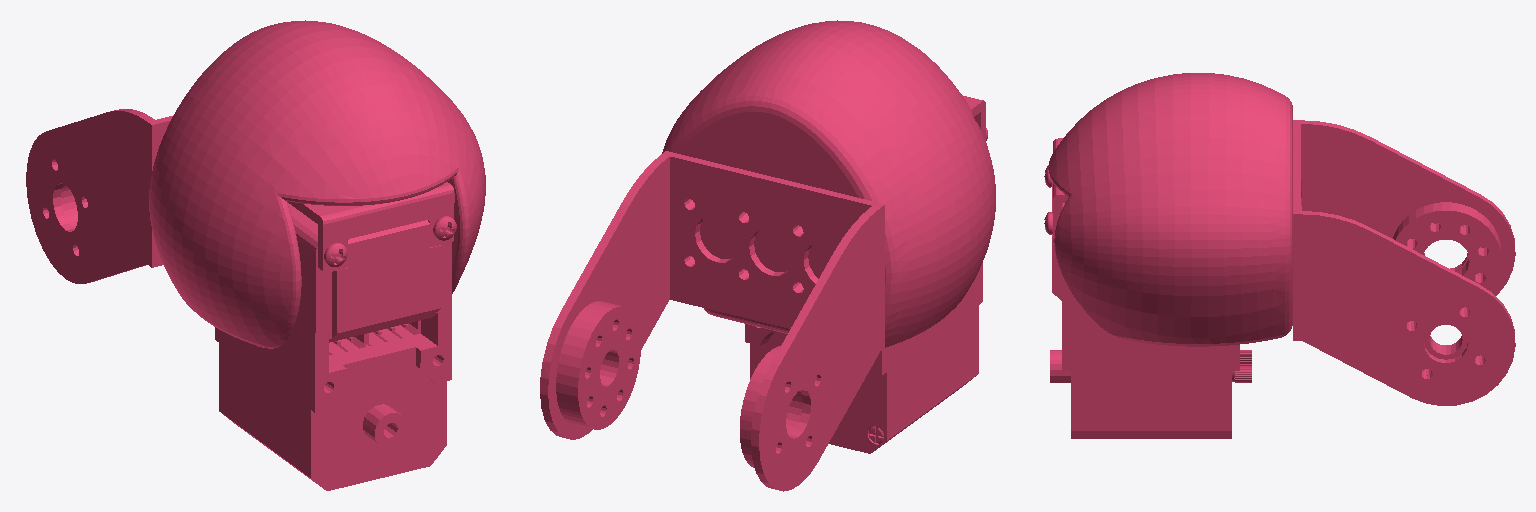
URDF robot description (PinkPanther_CML):
<?xml version="1.0" encoding="utf-8"?>
<!-- This URDF was automatically created by SolidWorks to URDF Exporter! Originally created by [author] ([email redacted]) 
     Commit Version: 1.5.1-0-g916b5db  Build Version: 1.5.7152.31018
     For more information, please see http://wiki.ros.org/sw_urdf_exporter -->
<robot
  name="PinkPanther_CML">
  <material name="light_pink">
    <color rgba="0.906 0.329 0.502 1"/>
  </material>
  <link
    name="base_link">
    <inertial>
      <origin
        xyz="0.00330331665446667 0.0134210233318688 0.000330796304878542"
        rpy="0 0 0" />
      <mass
        value="0.943175379685331" />
      <inertia
        ixx="0.000843754097456323"
        ixy="-9.02236540608445E-05"
        ixz="-1.97983849821466E-07"
        iyy="0.00333595130361869"
        iyz="-6.67405147906829E-08"
        izz="0.00280083806021279" />
    </inertial>
    <visual>
      <origin
        xyz="0 0 0"
        rpy="0 0 0" />
      <geometry>
        <mesh
          filename="package://PinkPanther_CML/meshes/base_link.STL" />
      </geometry>
      <material
        name="light_pink">
      </material>
    </visual>
    <collision>
      <origin
        xyz="0 0 0"
        rpy="0 0 0" />
      <geometry>
        <mesh
          filename="package://PinkPanther_CML/meshes/base_link.STL" />
      </geometry>
    </collision>
  </link>
  <link
    name="lf_scapula_link">
    <inertial>
      <origin
        xyz="-0.03075 0.010763 0.045764"
        rpy="0 0 0" />
      <mass
        value="0.0824" />
      <inertia
        ixx="1.9553E-05"
        ixy="2.0818E-07"
        ixz="3.2177E-07"
        iyy="1.9067E-05"
        iyz="-9.6011E-07"
        izz="2.1806E-05" />
    </inertial>
    <visual>
      <origin
        xyz="0 0 0"
        rpy="0 0 0" />
      <geometry>
        <mesh
          filename="package://PinkPanther_CML/meshes/lf_shoulder_link.STL" />
      </geometry>
      <material
        name="light_pink">
      </material>
    </visual>
    <collision>
      <origin
        xyz="0 0 0"
        rpy="0 0 0" />
      <geometry>
        <mesh
          filename="package://PinkPanther_CML/meshes/lf_shoulder_link.STL" />
      </geometry>
    </collision>
  </link>
  <joint
    name="lf_armpit_joint"
    type="revolute">
    <origin
      xyz="0.086416 0.04808 0.020486"
      rpy="1.5666 -5.102E-05 3.1416" />
    <parent
      link="base_link" />
    <child
      link="lf_scapula_link" />
    <axis
      xyz="1 -5.102E-05 0" />
    <limit
      lower="-0.3"
      upper="0.3"
      effort="1.667"
      velocity="6.545" />
  </joint>
  <link
    name="lf_humerus_link">
    <inertial>
      <origin
        xyz="0.059996 -0.034184 0.032377"
        rpy="0 0 0" />
      <mass
        value="0.20467" />
      <inertia
        ixx="5.2641E-05"
        ixy="-6.8704E-06"
        ixz="-9.1195E-09"
        iyy="0.0002077"
        iyz="4.2931E-10"
        izz="0.00019669" />
    </inertial>
    <visual>
      <origin
        xyz="0 0 0"
        rpy="0 0 0" />
      <geometry>
        <mesh
          filename="package://PinkPanther_CML/meshes/lf_thigh_link.STL" />
      </geometry>
      <material
        name="light_pink">
      </material>
    </visual>
    <collision>
      <origin
        xyz="0 0 0"
        rpy="0 0 0" />
      <geometry>
        <mesh
          filename="package://PinkPanther_CML/meshes/lf_thigh_link.STL" />
      </geometry>
    </collision>
  </link>
  <joint
    name="lf_shoulder_joint"
    type="revolute">
    <origin
      xyz="-0.029275 -0.014657 0.021201"
      rpy="0 0 -0.43549" />
    <parent
      link="lf_scapula_link" />
    <child
      link="lf_humerus_link" />
    <axis
      xyz="0 0 1" />
    <limit
      lower="-0.3"
      upper="1.2"
      effort="1.667"
      velocity="6.545" />
  </joint>
  <link
    name="lf_ulna_link">
    <inertial>
      <origin
        xyz="-0.0562746607594241 -0.0312019222312566 0.0300902624876031"
        rpy="0 0 0" />
      <mass
        value="0.129518977611389" />
      <inertia
        ixx="2.77037088503312E-05"
        ixy="6.55368550236014E-06"
        ixz="1.06768612045409E-09"
        iyy="0.000261061310693975"
        iyz="2.95073964447291E-09"
        izz="0.000250498590500445" />
    </inertial>
    <visual>
      <origin
        xyz="0 0 0"
        rpy="0 0 0" />
      <geometry>
        <mesh
          filename="package://PinkPanther_CML/meshes/left_ulna_link.STL" />
      </geometry>
      <material
        name="light_pink">
      </material>
    </visual>
    <collision>
      <origin
        xyz="0 0 0"
        rpy="0 0 0" />
      <geometry>
        <mesh
          filename="package://PinkPanther_CML/meshes/left_ulna_link.STL" />
      </geometry>
    </collision>
  </link>
  <joint
    name="lf_elbow_joint"
    type="revolute">
    <origin
      xyz="0.14707 -0.034829 0.0022602"
      rpy="0 0 0.93771" />
    <parent
      link="lf_humerus_link" />
    <child
      link="lf_ulna_link" />
    <axis
      xyz="0 0 1" />
    <limit
      lower="-0.9"
      upper="1.2"
      effort="1.667"
      velocity="6.545" />
  </joint>
  <link
    name="rf_scapula_link">
    <inertial>
      <origin
        xyz="-0.030838 0.010759 -0.045563"
        rpy="0 0 0" />
      <mass
        value="0.082397" />
      <inertia
        ixx="1.9553E-05"
        ixy="2.0806E-07"
        ixz="-3.2173E-07"
        iyy="1.9066E-05"
        iyz="9.7295E-07"
        izz="2.1806E-05" />
    </inertial>
    <visual>
      <origin
        xyz="0 0 0"
        rpy="0 0 0" />
      <geometry>
        <mesh
          filename="package://PinkPanther_CML/meshes/rf_shoulder_link.STL" />
      </geometry>
      <material
        name="light_pink">
      </material>
    </visual>
    <collision>
      <origin
        xyz="0 0 0"
        rpy="0 0 0" />
      <geometry>
        <mesh
          filename="package://PinkPanther_CML/meshes/rf_shoulder_link.STL" />
      </geometry>
    </collision>
  </link>
  <joint
    name="rf_armpit_joint"
    type="revolute">
    <origin
      xyz="0.086926 -0.04808 0.020486"
      rpy="1.5736 5.102E-05 3.1416" />
    <parent
      link="base_link" />
    <child
      link="rf_scapula_link" />
    <axis
      xyz="1 5.102E-05 0" />
    <limit
      lower="-0.3"
      upper="0.3"
      effort="1.667"
      velocity="6.545" />
  </joint>
  <link
    name="rf_humerus_link">
    <inertial>
      <origin
        xyz="0.059996319544716 -0.0341838862880749 -0.0326354177099718"
        rpy="0 0 0" />
      <mass
        value="0.204666659119259" />
      <inertia
        ixx="5.26405020771446E-05"
        ixy="-6.87045925823286E-06"
        ixz="-9.16134381790139E-09"
        iyy="0.000207700318237006"
        iyz="4.24645067196885E-10"
        izz="0.000196694737864689" />
    </inertial>
    <visual>
      <origin
        xyz="0 0 0.0055"
        rpy="0 0 0" />
      <geometry>
        <mesh
          filename="package://PinkPanther_CML/meshes/rf_thigh_link.STL" />
      </geometry>
      <material
        name="light_pink">
      </material>
    </visual>
    <collision>
      <origin
        xyz="0 0 0.0055"
        rpy="0 0 0" />
      <geometry>
        <mesh
          filename="package://PinkPanther_CML/meshes/rf_thigh_link.STL" />
      </geometry>
    </collision>
  </link>
  <joint
    name="rf_shoulder_joint"
    type="revolute">
    <origin
      xyz="-0.029276 -0.01466 -0.020328"
      rpy="0 0 -0.42784" />
    <parent
      link="rf_scapula_link" />
    <child
      link="rf_humerus_link" />
    <axis
      xyz="0 0 1" />
    <limit
      lower="-0.3"
      upper="1.2"
      effort="1.667"
      velocity="6.545" />
  </joint>
  <link
    name="rf_ulna_link">
    <inertial>
      <origin
        xyz="-0.0562746594086836 -0.031201912312426 -0.0304061026125255"
        rpy="0 0 0" />
      <mass
        value="0.129518977475394" />
      <inertia
        ixx="2.77037089316128E-05"
        ixy="6.55368523649855E-06"
        ixz="1.06766509147501E-09"
        iyy="0.000261061310715708"
        iyz="2.95075193535627E-09"
        izz="0.000250498590422263" />
    </inertial>
    <visual>
      <origin
        xyz="0 0 -0.0005"
        rpy="0 0 0" />
      <geometry>
        <mesh
          filename="package://PinkPanther_CML/meshes/right_ulna_link.STL" />
      </geometry>
      <material
        name="light_pink">
      </material>
    </visual>
    <collision>
      <origin
        xyz="0 0 -0.0005"
        rpy="0 0 0" />
      <geometry>
        <mesh
          filename="package://PinkPanther_CML/meshes/right_ulna_link.STL" />
      </geometry>
    </collision>
  </link>
  <joint
    name="rf_elbow_joint"
    type="revolute">
    <origin
      xyz="0.14707 -0.034829 -0.0017563"
      rpy="0 0 0.93378" />
    <parent
      link="rf_humerus_link" />
    <child
      link="rf_ulna_link" />
    <axis
      xyz="0 0 1" />
    <limit
      lower="-0.9"
      upper="1.2"
      effort="1.667"
      velocity="6.545" />
  </joint>
  <link
    name="lb_scapula_link">
    <inertial>
      <origin
        xyz="0.0268112424173798 0.0107596960598041 0.0457636308417059"
        rpy="0 0 0" />
      <mass
        value="0.0823995961404887" />
      <inertia
        ixx="1.95534937544982E-05"
        ixy="2.08177132098421E-07"
        ixz="3.21769091341535E-07"
        iyy="1.90668948433689E-05"
        iyz="-9.60105437391446E-07"
        izz="2.1805721300216E-05" />
    </inertial>
    <visual>
      <origin
        xyz="0.0057 0 0"
        rpy="0 0 0" />
      <geometry>
        <mesh
          filename="package://PinkPanther_CML/meshes/lb_shoulder_link.STL" />
      </geometry>
      <material
        name="light_pink">
      </material>
    </visual>
    <collision>
      <origin
        xyz="0.0057 0 0"
        rpy="0 0 0" />
      <geometry>
        <mesh
          filename="package://PinkPanther_CML/meshes/lb_shoulder_link.STL" />
      </geometry>
    </collision>
  </link>
  <joint
    name="lb_armpit_joint"
    type="revolute">
    <origin
      xyz="-0.090843 0.04808 0.020486"
      rpy="1.5668 -5.102E-05 -3.1416" />
    <parent
      link="base_link" />
    <child
      link="lb_scapula_link" />
    <axis
      xyz="1 -5.102E-05 0" />
    <limit
      lower="-0.3"
      upper="0.3"
      effort="1.667"
      velocity="6.545" />
  </joint>
  <link
    name="lb_humerus_link">
    <inertial>
      <origin
        xyz="0.0599962531882521 -0.0341838743931865 0.0323774662751334"
        rpy="0 0 0" />
      <mass
        value="0.204667094970786" />
      <inertia
        ixx="5.26405893727808E-05"
        ixy="-6.87037873543066E-06"
        ixz="-9.16501184768225E-09"
        iyy="0.000207700430481537"
        iyz="4.05445574988764E-10"
        izz="0.00019669493307742" />
    </inertial>
    <visual>
      <origin
        xyz="0 0 0"
        rpy="0 0 0" />
      <geometry>
        <mesh
          filename="package://PinkPanther_CML/meshes/lb_thigh_link.STL" />
      </geometry>
      <material
        name="light_pink">
      </material>
    </visual>
    <collision>
      <origin
        xyz="0 0 0"
        rpy="0 0 0" />
      <geometry>
        <mesh
          filename="package://PinkPanther_CML/meshes/lb_thigh_link.STL" />
      </geometry>
    </collision>
  </link>
  <joint
    name="lb_shoulder_joint"
    type="revolute">
    <origin
      xyz="0.028287 -0.014659 0.021201"
      rpy="0 0 -0.46494" />
    <parent
      link="lb_scapula_link" />
    <child
      link="lb_humerus_link" />
    <axis
      xyz="0 0 1" />
    <limit
      lower="-0.3"
      upper="1.2"
      effort="1.667"
      velocity="6.545" />
  </joint>
  <link
    name="lb_ulna_link">
    <inertial>
      <origin
        xyz="-0.0562746283337433 -0.0312019131985415 0.0300903536116095"
        rpy="0 0 0" />
      <mass
        value="0.129518977611384" />
      <inertia
        ixx="2.77037088503135E-05"
        ixy="6.5536855023707E-06"
        ixz="1.067686122188E-09"
        iyy="0.00026106131069397"
        iyz="2.95073964434943E-09"
        izz="0.000250498590500422" />
    </inertial>
    <visual>
      <origin
        xyz="0 0 0"
        rpy="0 0 0" />
      <geometry>
        <mesh
          filename="package://PinkPanther_CML/meshes/left_ulna_link.STL" />
      </geometry>
      <material
        name="light_pink">
      </material>
    </visual>
    <collision>
      <origin
        xyz="0 0 0"
        rpy="0 0 0" />
      <geometry>
        <mesh
          filename="package://PinkPanther_CML/meshes/left_ulna_link.STL" />
      </geometry>
    </collision>
  </link>
  <joint
    name="lb_elbow_joint"
    type="revolute">
    <origin
      xyz="0.14707 -0.034829 0.0022602"
      rpy="0 0 0.97678" />
    <parent
      link="lb_humerus_link" />
    <child
      link="lb_ulna_link" />
    <axis
      xyz="0 0 1" />
    <limit
      lower="-0.6"
      upper="1.2"
      effort="1.667"
      velocity="6.545" />
  </joint>
  <link
    name="rb_scapula_link">
    <inertial>
      <origin
        xyz="0.0267231655282443 0.010762075261042 -0.0455633379422674"
        rpy="0 0 0" />
      <mass
        value="0.0823973934424499" />
      <inertia
        ixx="1.95529733228597E-05"
        ixy="2.08060157237391E-07"
        ixz="-3.21734054822669E-07"
        iyy="1.90663267893417E-05"
        iyz="9.7294659149752E-07"
        izz="2.18055626025946E-05" />
    </inertial>
    <visual>
      <origin
        xyz="0.0069 0 0"
        rpy="0 0 0" />
      <geometry>
        <mesh
          filename="package://PinkPanther_CML/meshes/rb_shoulder_link.STL" />
      </geometry>
      <material
        name="light_pink">
      </material>
    </visual>
    <collision>
      <origin
        xyz="0.0069 0 0"
        rpy="0 0 0" />
      <geometry>
        <mesh
          filename="package://PinkPanther_CML/meshes/rb_shoulder_link.STL" />
      </geometry>
    </collision>
  </link>
  <joint
    name="rb_armpit_joint"
    type="revolute">
    <origin
      xyz="-0.090333 -0.04808 0.020486"
      rpy="1.5701 5.102E-05 -3.1416" />
    <parent
      link="base_link" />
    <child
      link="rb_scapula_link" />
    <axis
      xyz="1 5.102E-05 0" />
    <limit
      lower="-0.3"
      upper="0.3"
      effort="1.667"
      velocity="6.545" />
  </joint>
  <link
    name="rb_humerus_link">
    <inertial>
      <origin
        xyz="0.0599962641867017 -0.0341838839492449 -0.0322633194933277"
        rpy="0 0 0" />
      <mass
        value="0.204666926145609" />
      <inertia
        ixx="5.26405352597993E-05"
        ixy="-6.87043903505302E-06"
        ixz="-9.13736190376255E-09"
        iyy="0.000207700313943162"
        iyz="3.89261437438874E-10"
        izz="0.000196694776060325" />
    </inertial>
    <visual>
      <origin
        xyz="0 0 0"
        rpy="0 0 0" />
      <geometry>
        <mesh
          filename="package://PinkPanther_CML/meshes/rb_thigh_link.STL" />
      </geometry>
      <material
        name="light_pink">
      </material>
    </visual>
    <collision>
      <origin
        xyz="0 0 0"
        rpy="0 0 0" />
      <geometry>
        <mesh
          filename="package://PinkPanther_CML/meshes/rb_thigh_link.STL" />
      </geometry>
    </collision>
  </link>
  <joint
    name="rb_shoulder_joint"
    type="revolute">
    <origin
      xyz="0.028285 -0.014657 -0.0207"
      rpy="0 0 -0.46283" />
    <parent
      link="rb_scapula_link" />
    <child
      link="rb_humerus_link" />
    <axis
      xyz="0 0 1" />
    <limit
      lower="-0.3"
      upper="1.2"
      effort="1.667"
      velocity="6.545" />
  </joint>
  <link
    name="rb_ulna_link">
    <inertial>
      <origin
        xyz="-0.0562746202737299 -0.031201906093811 -0.0300128862017215"
        rpy="0 0 0" />
      <mass
        value="0.129518977475398" />
      <inertia
        ixx="2.77037089314467E-05"
        ixy="6.55368523649099E-06"
        ixz="1.0676650903247E-09"
        iyy="0.000261061310715554"
        iyz="2.95075193519628E-09"
        izz="0.000250498590422122" />
    </inertial>
    <visual>
      <origin
        xyz="0 0 0"
        rpy="0 0 0" />
      <geometry>
        <mesh
          filename="package://PinkPanther_CML/meshes/right_ulna_link.STL" />
      </geometry>
      <material
        name="light_pink">
      </material>
    </visual>
    <collision>
      <origin
        xyz="0 0 0"
        rpy="0 0 0" />
      <geometry>
        <mesh
          filename="package://PinkPanther_CML/meshes/right_ulna_link.STL" />
      </geometry>
    </collision>
  </link>
  <joint
    name="rb_elbow_joint"
    type="revolute">
    <origin
      xyz="0.14707 -0.034829 -0.0017774"
      rpy="0 0 0.9789" />
    <parent
      link="rb_humerus_link" />
    <child
      link="rb_ulna_link" />
    <axis
      xyz="0 0 1" />
    <limit
      lower="-0.9"
      upper="1.2"
      effort="1.667"
      velocity="6.545" />
  </joint>
</robot>

--- Facts derived from the render (not from the file) ---
Views: 3 orthographic renders of the robot side by side, from view 1: azimuth 30°, elevation 25°; view 2: azimuth 150°, elevation 25°; view 3: azimuth 270°, elevation 25°.
Model PinkPanther_CML with 13 links and 12 joints (12 revolute), rooted at base_link, posed all joints at 0.
Links seen in each view (by area): view 1: rb_scapula_link; view 2: rb_scapula_link; view 3: rb_scapula_link.
Boxes of the visible links, bbox=[...] form: rb_scapula_link: bbox=[26, 20, 485, 490]; rb_scapula_link: bbox=[540, 20, 995, 491]; rb_scapula_link: bbox=[1044, 73, 1515, 438].
Size in the robot's own frame: 0.0511 by 0.0846 by 0.0676 metres.
1 mesh visuals loaded from 11 distinct referenced files (1 binary STL); not drawn: 12 (reference not matched to a file when rendering).